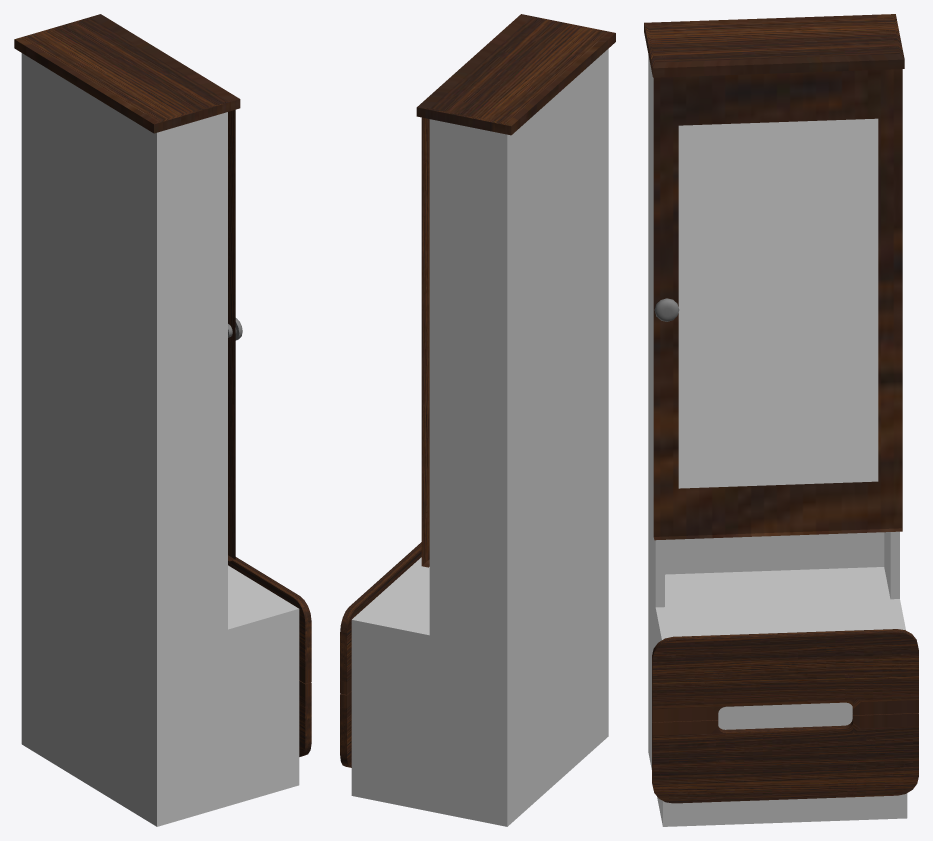
Rendered from teakwood-dressing-table-2b0f1b5e-c61a-4f45-b6d5-6c6f9b7bf125.glb.
3 views of the same model, side by side, from view 1: azimuth 30°, elevation 25°; view 2: azimuth 150°, elevation 25°; view 3: azimuth 270°, elevation 25° (orthographic). The views are drawn at different scales.
Visible parts, largest first — view 1: almirah; view 2: almirah; view 3: almirah.
Boxes of the visible parts, x1=… form: almirah: x1=14, y1=14, x2=311, y2=826; almirah: x1=340, y1=14, x2=615, y2=826; almirah: x1=644, y1=14, x2=918, y2=826.
Size of the model in its own units: 0.4861 by 1.83 by 0.627.
Materials: 4 (1 with a texture image).
